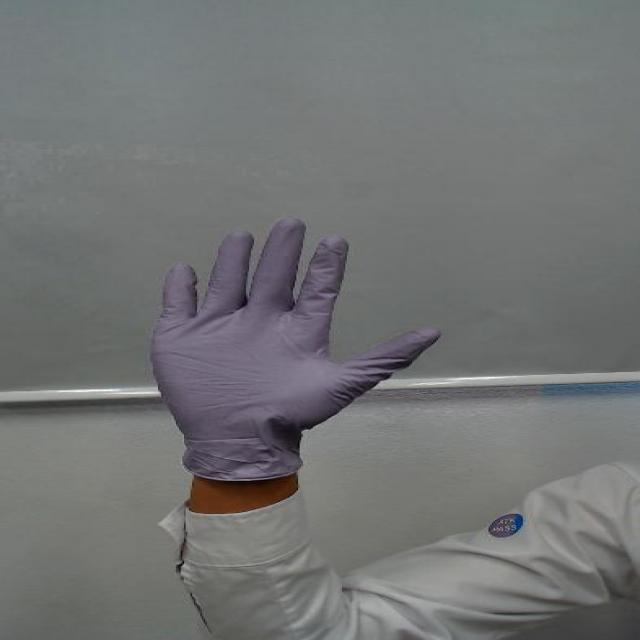with_gloves: (123, 216, 434, 462)
